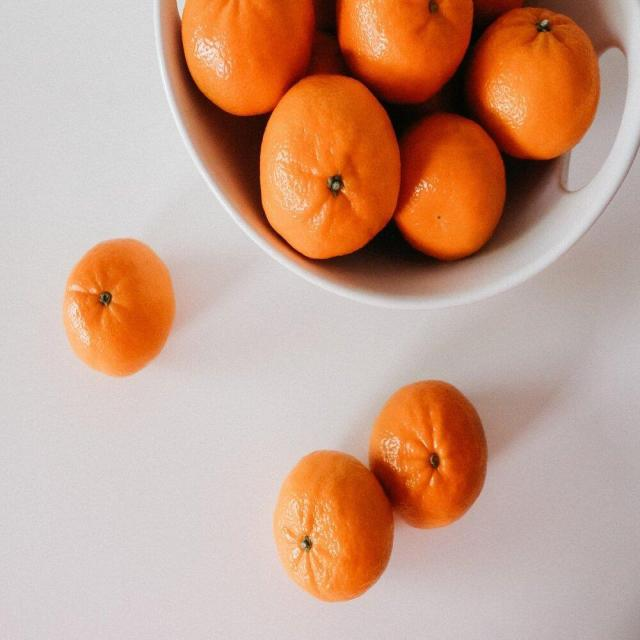10_tangerine: (256, 74, 403, 264), (264, 437, 396, 609), (472, 1, 606, 169), (389, 106, 514, 258), (367, 374, 491, 526), (62, 229, 178, 381), (179, 0, 316, 112), (335, 0, 474, 100)
